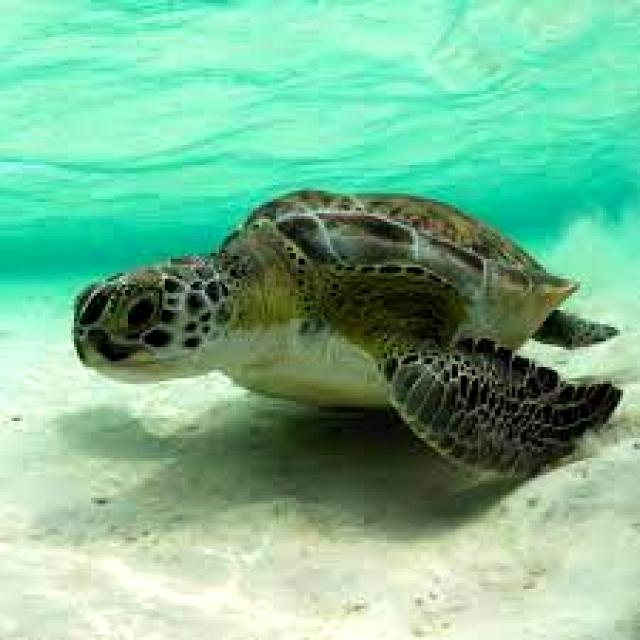Sea turtle: (62, 182, 628, 484)
